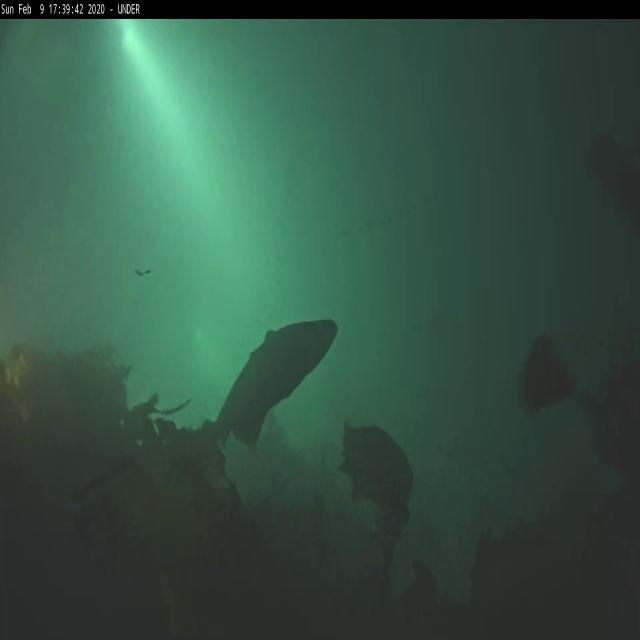fish: (215, 321, 338, 446)
